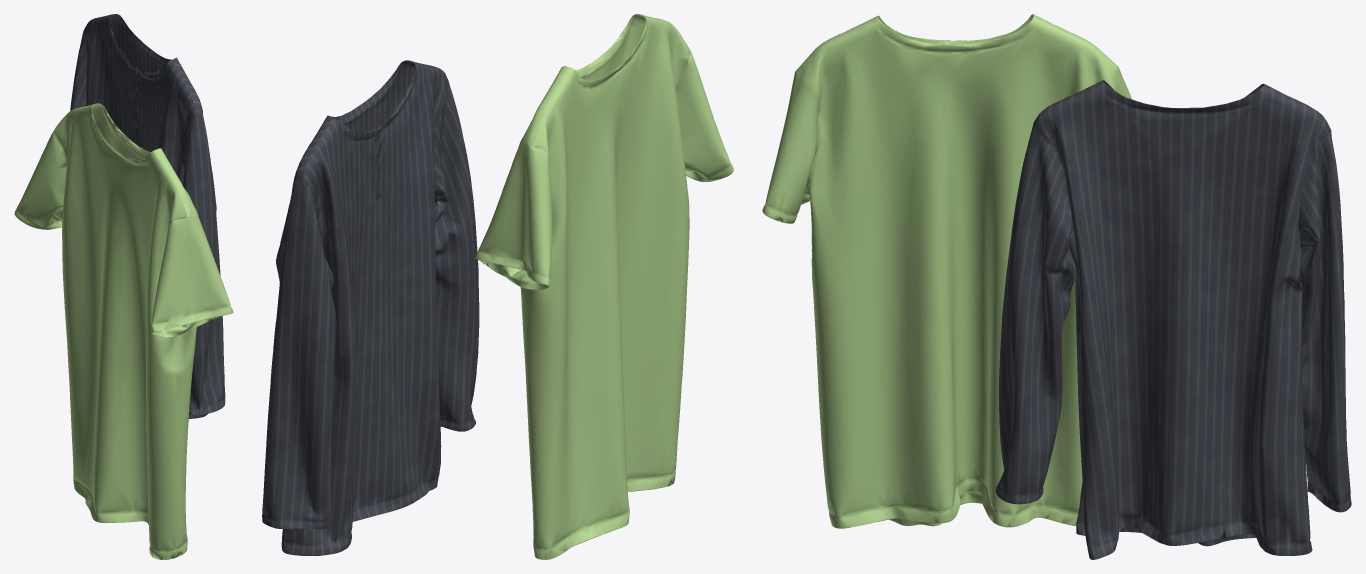
3 renders of one model, left to right at view 1: azimuth 30°, elevation 25°; view 2: azimuth 150°, elevation 25°; view 3: azimuth 270°, elevation 25°, orthographic. The views are drawn at different scales.
Parts seen in each view (by area): view 1: Obj3d66-516286-2-747_0, Obj3d66-516286-9-190_1; view 2: Obj3d66-516286-2-747_0, Obj3d66-516286-9-190_1; view 3: Obj3d66-516286-9-190_1, Obj3d66-516286-2-747_0.
Boxes of the visible parts, left/top/right/bottom form: Obj3d66-516286-2-747_0: left=14, top=103, right=233, bottom=559; Obj3d66-516286-9-190_1: left=70, top=14, right=225, bottom=418; Obj3d66-516286-2-747_0: left=475, top=14, right=733, bottom=559; Obj3d66-516286-9-190_1: left=262, top=60, right=479, bottom=555; Obj3d66-516286-9-190_1: left=995, top=80, right=1351, bottom=559; Obj3d66-516286-2-747_0: left=762, top=14, right=1132, bottom=528.
Size of the model in its own units: 0.3642 by 0.7799 by 0.8194.
5 materials, 1 textured.
